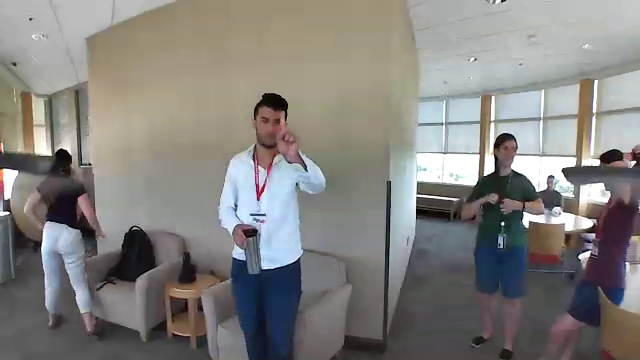up: (273, 107, 300, 163)
